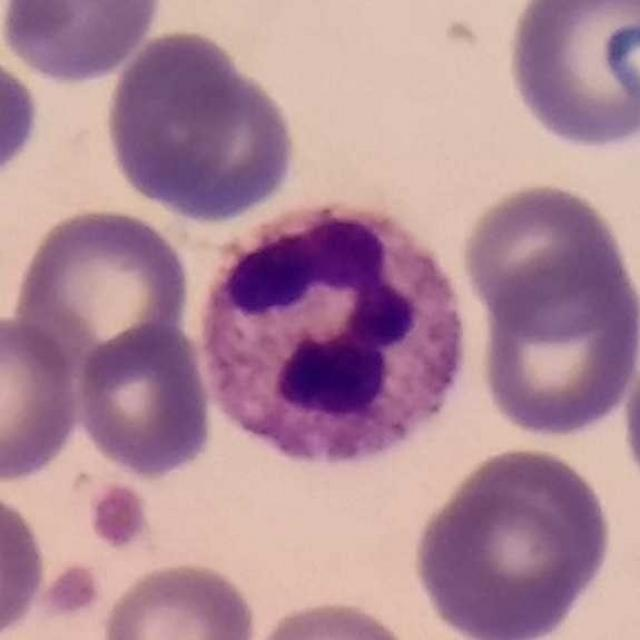Neutrophil: (184, 177, 476, 480)
Platelets: (88, 480, 151, 554), (38, 556, 104, 621)
RBC: (407, 442, 618, 640), (99, 26, 303, 226), (473, 244, 640, 442), (8, 203, 195, 374), (456, 177, 634, 344), (70, 318, 217, 481), (501, 0, 640, 157), (0, 311, 85, 485), (4, 0, 170, 87), (96, 556, 260, 640), (243, 595, 422, 640), (0, 482, 50, 640), (0, 44, 45, 190), (617, 329, 640, 508)
